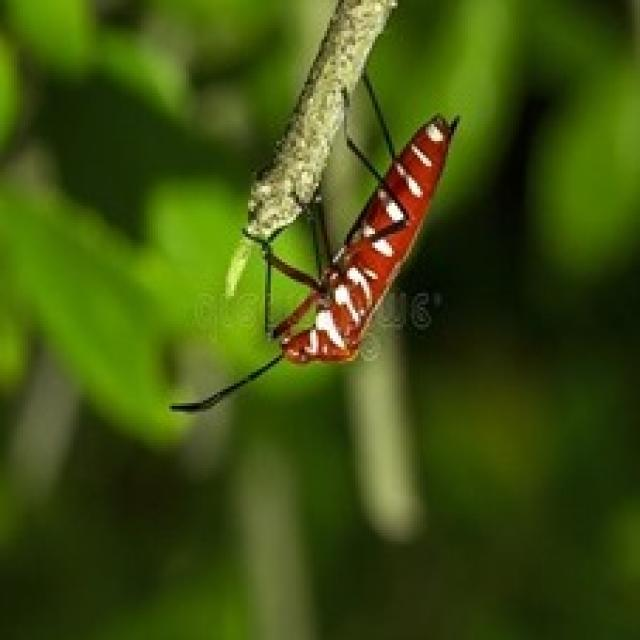Rust: (276, 111, 464, 370)
